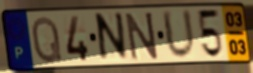4: (65, 14, 90, 63)
5: (194, 8, 224, 59)
N: (123, 10, 160, 63), (95, 11, 130, 65)
Q: (30, 14, 64, 65)
U: (160, 8, 198, 62)
